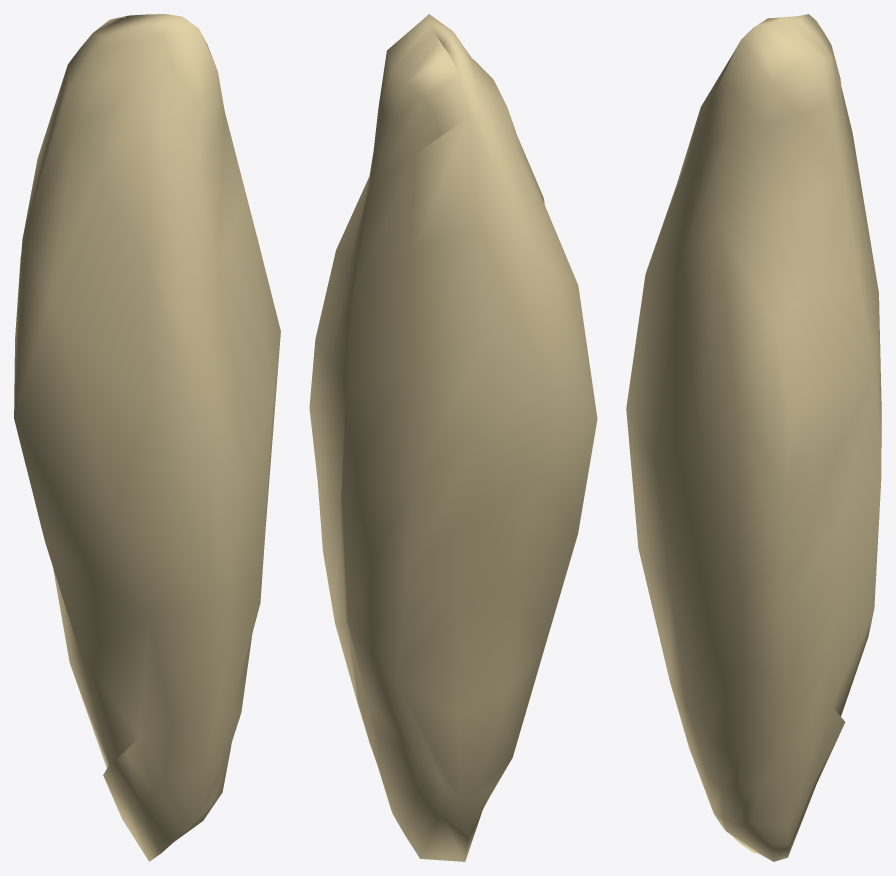
Rendered from soufflet-malt-bd-petite.glb.
3 views of the same model, side by side, from view 1: azimuth 30°, elevation 25°; view 2: azimuth 150°, elevation 25°; view 3: azimuth 270°, elevation 25° (orthographic).
Parts seen in each view (by area): view 1: mesh-v2-bd.001; view 2: mesh-v2-bd.001; view 3: mesh-v2-bd.001.
Part boxes in pixels (x1=…): mesh-v2-bd.001: x1=14, y1=14, x2=280, y2=861; mesh-v2-bd.001: x1=309, y1=14, x2=597, y2=861; mesh-v2-bd.001: x1=626, y1=14, x2=881, y2=861.
Bounding box in the file's own units: 0.3511 × 1.03 × 0.2821.
